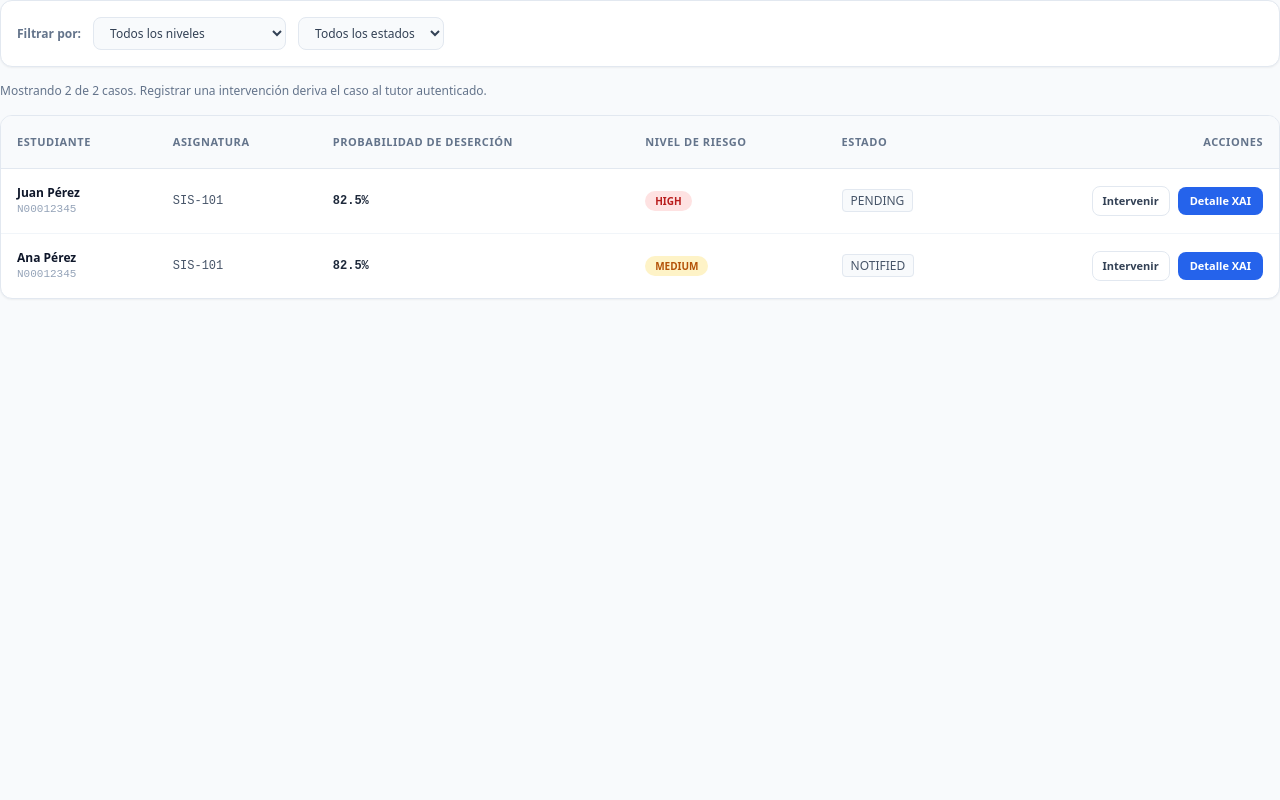
Test: Componente: AlertTable › filtra por criticidad y permite derivar un caso a intervención
Select "Riesgo Alto (Crítico)" in the 1st dropdown at (190, 34), box [93, 17, 286, 50]
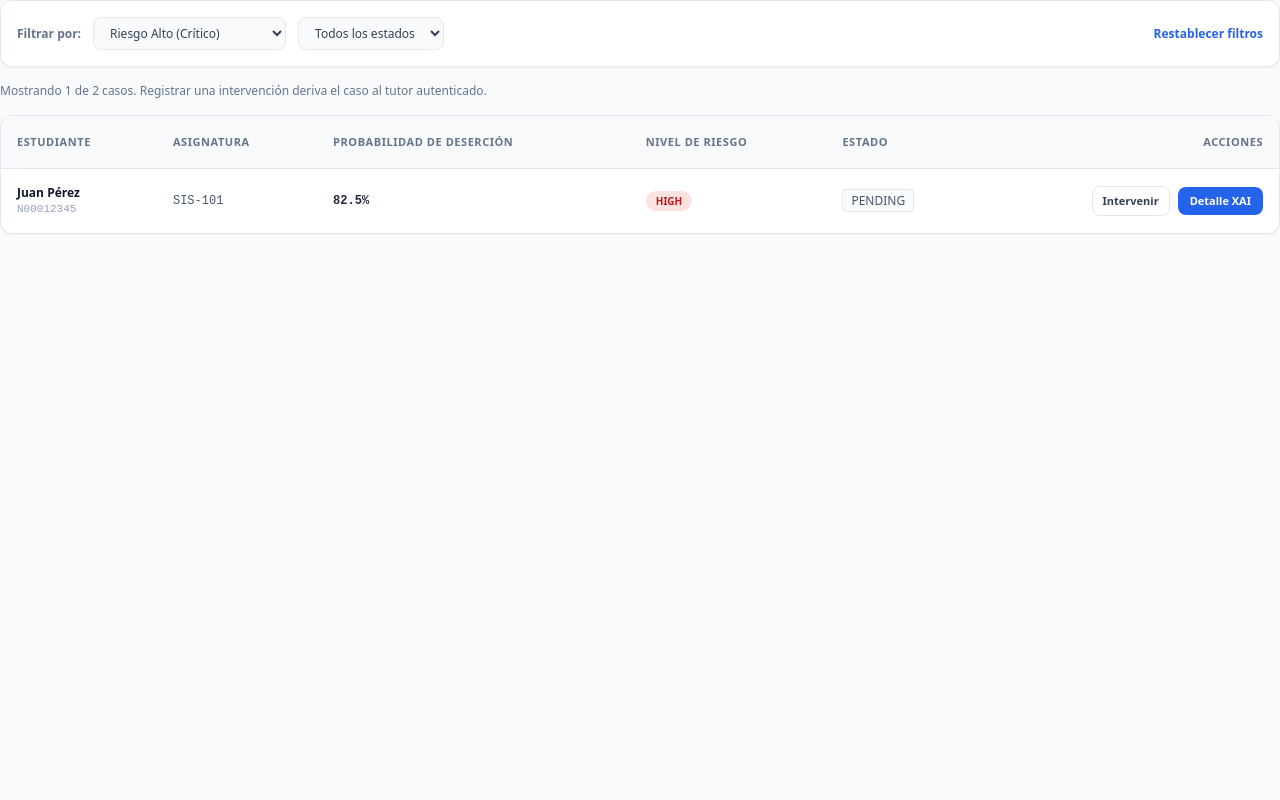
Check: the text "Juan Pérez" is shown, box [17, 184, 80, 201]
Check: the text "Mostrando 1 de 2 casos. Registrar una intervención deriva el caso al tutor autenticado." is shown, box [0, 82, 487, 99]
Check: the text "Ana Pérez" is gone
Click the button "Intervenir" at (1131, 201), box [1092, 186, 1170, 216]
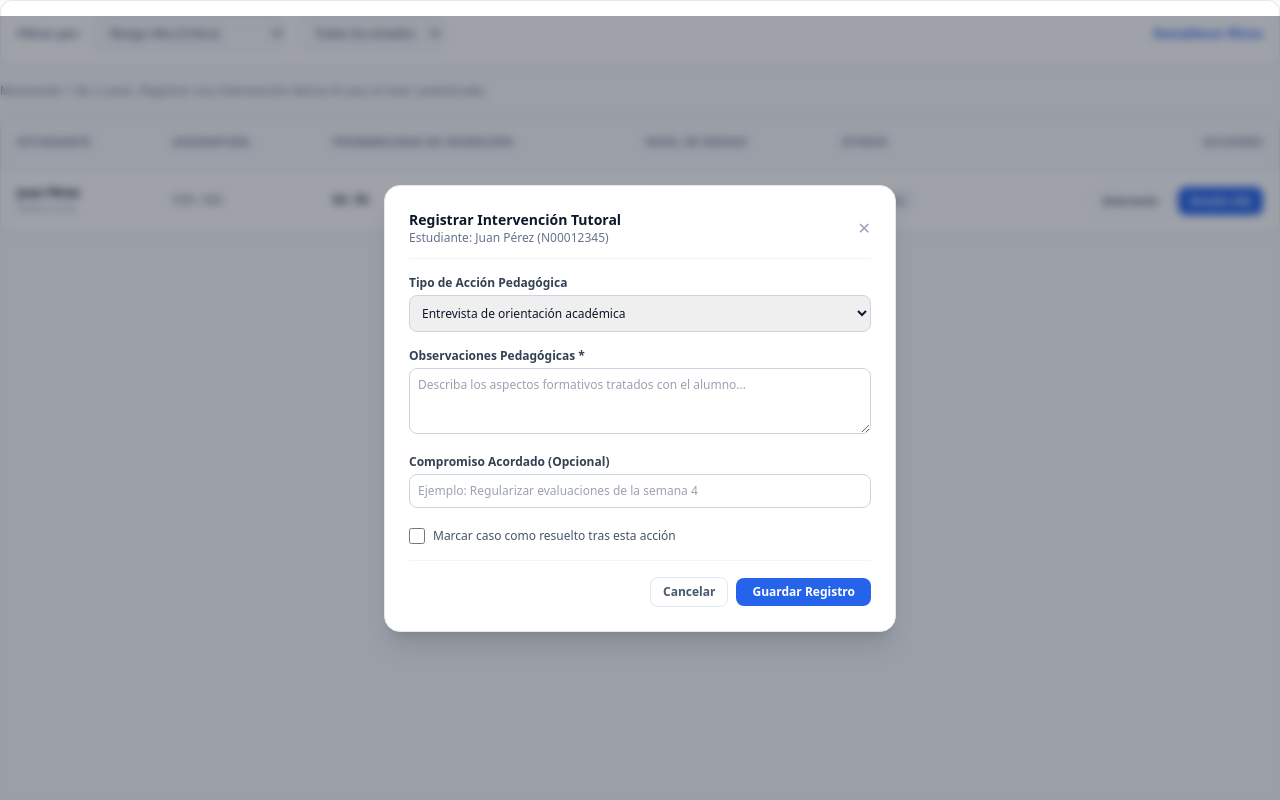
Check: the heading "Registrar Intervención Tutoral" is shown, box [409, 210, 621, 230]
